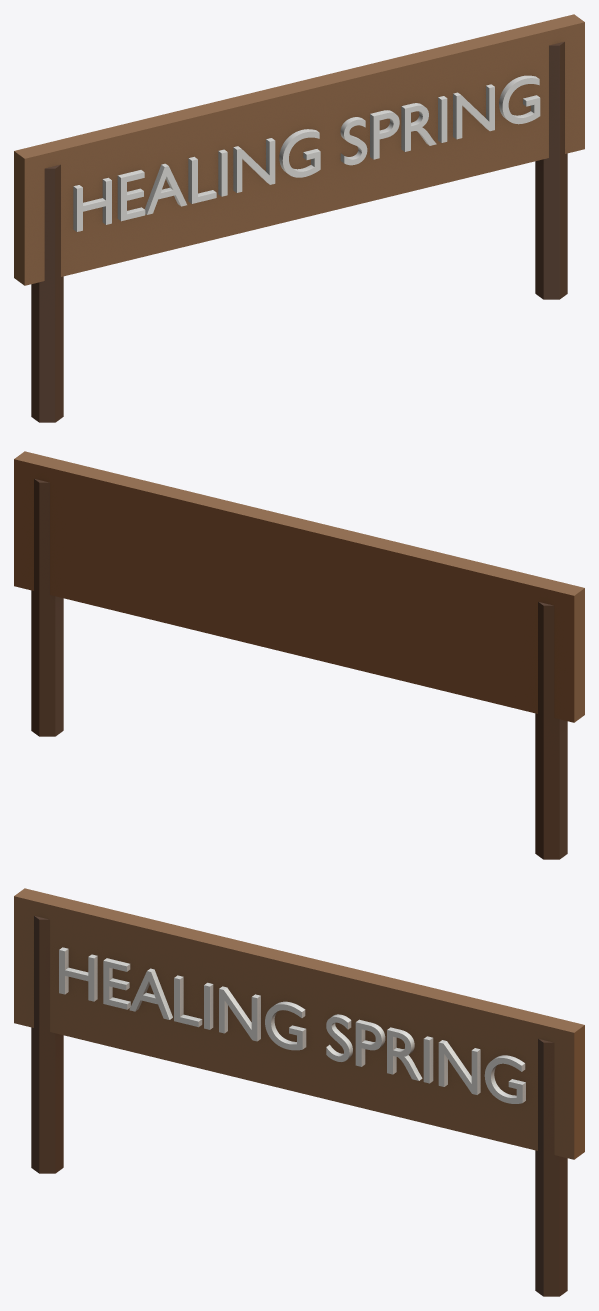
Rendered from area_spring_0_1.fbx.
3 renders of one model, top to bottom at view 1: azimuth 30°, elevation 25°; view 2: azimuth 150°, elevation 25°; view 3: azimuth 330°, elevation 25°, orthographic.
Visible parts, largest first — view 1: area_spring_0_1_body; view 2: area_spring_0_1_body; view 3: area_spring_0_1_body.
Boxes of the visible parts, box(x1,y1,x2,y2) form: area_spring_0_1_body: box(14, 14, 584, 422); area_spring_0_1_body: box(14, 451, 584, 859); area_spring_0_1_body: box(14, 888, 584, 1296).
Bounding box in the file's own units: 3000 × 1375 × 158.
1 material, 1 textured.
